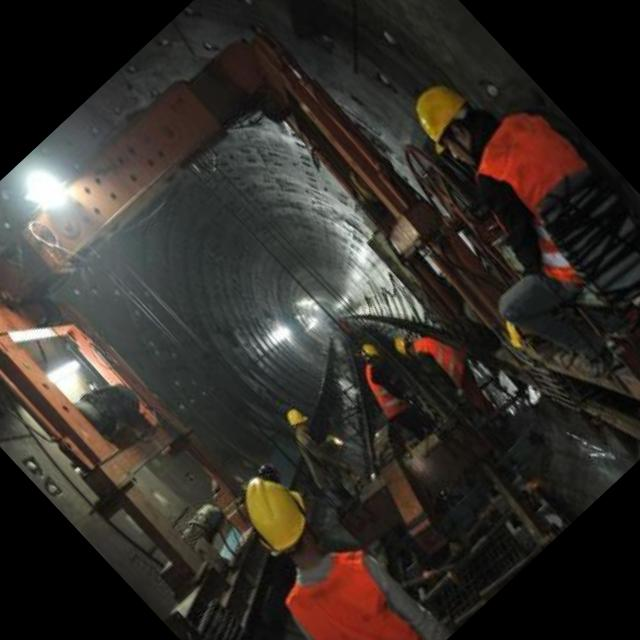hard_hat: (228, 460, 326, 560), (404, 73, 489, 158), (282, 402, 312, 433), (356, 339, 380, 364), (392, 333, 416, 357)
safety_vest: (450, 93, 640, 360), (276, 533, 446, 640), (407, 321, 483, 399), (352, 356, 419, 426)
vehicle: (343, 28, 640, 429), (190, 441, 457, 640), (245, 382, 416, 556), (380, 295, 534, 454), (340, 336, 446, 446)
